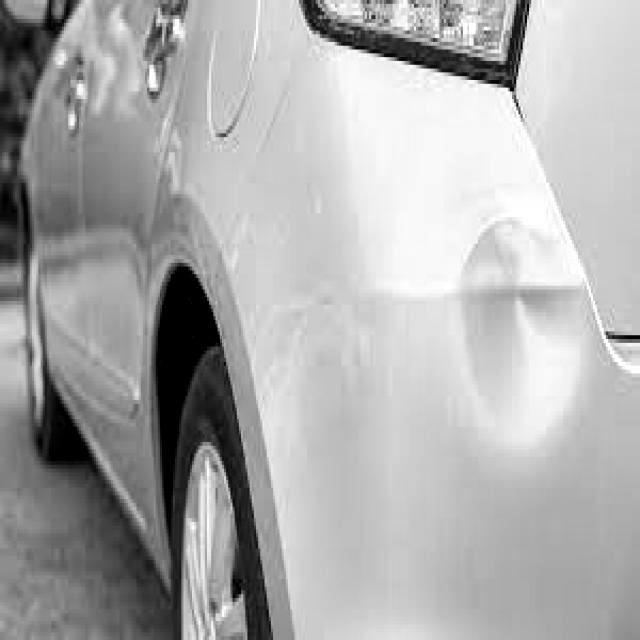rear-bumper-dent: (395, 122, 601, 584)
